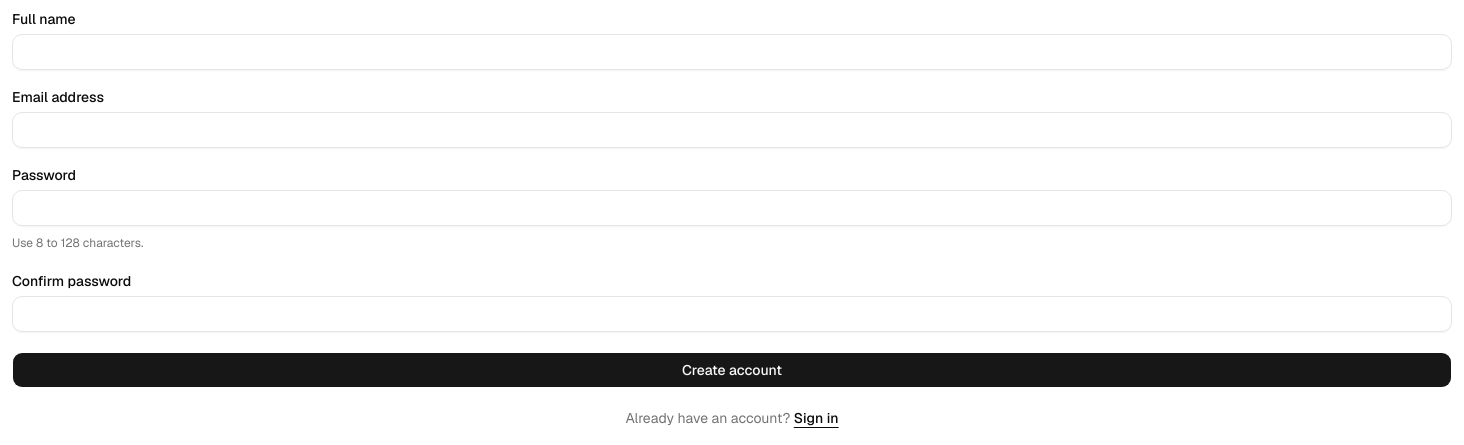
Test: sign-up UI › submits only approved fields and treats the generic response as verification-required
The width and height of the screenshot is (1464, 445).
Type "  Ada Lovelace  " into the field labelled "Full name" at (732, 52), box 12,34 -> 1452,70
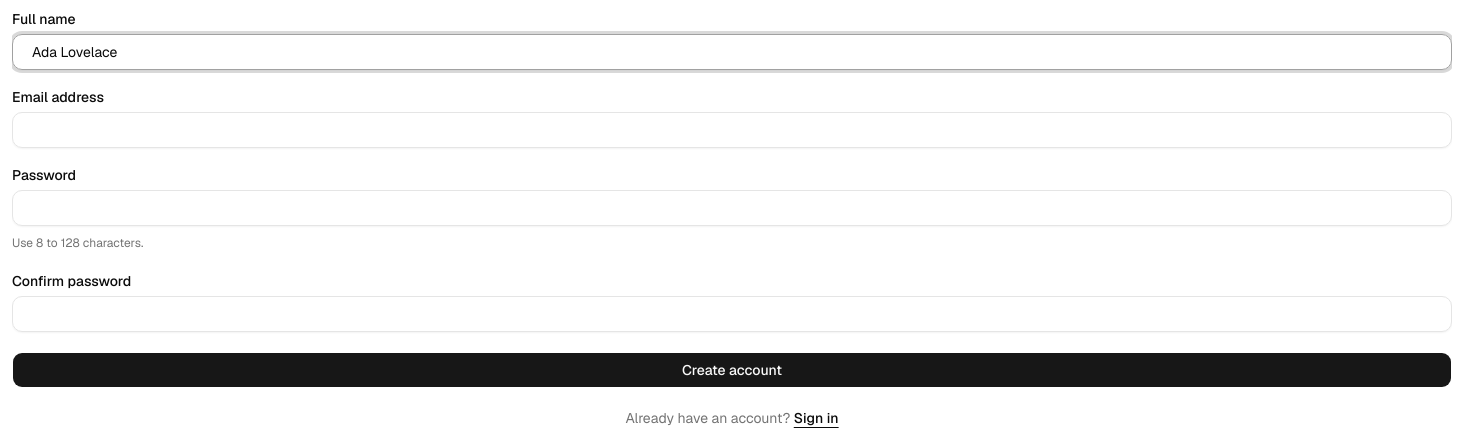
Type "  ADA@Example.com  " into the field labelled "Email address" at (732, 130), box 12,112 -> 1452,148
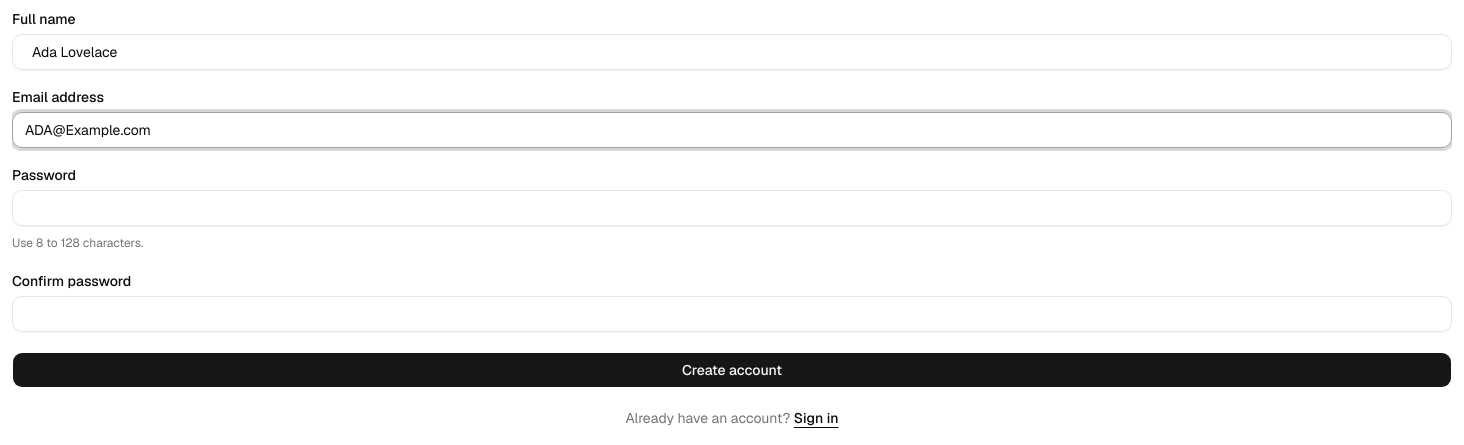
Type "correct-horse-42" into the password field labelled "Password" at (732, 208), box 12,190 -> 1452,226
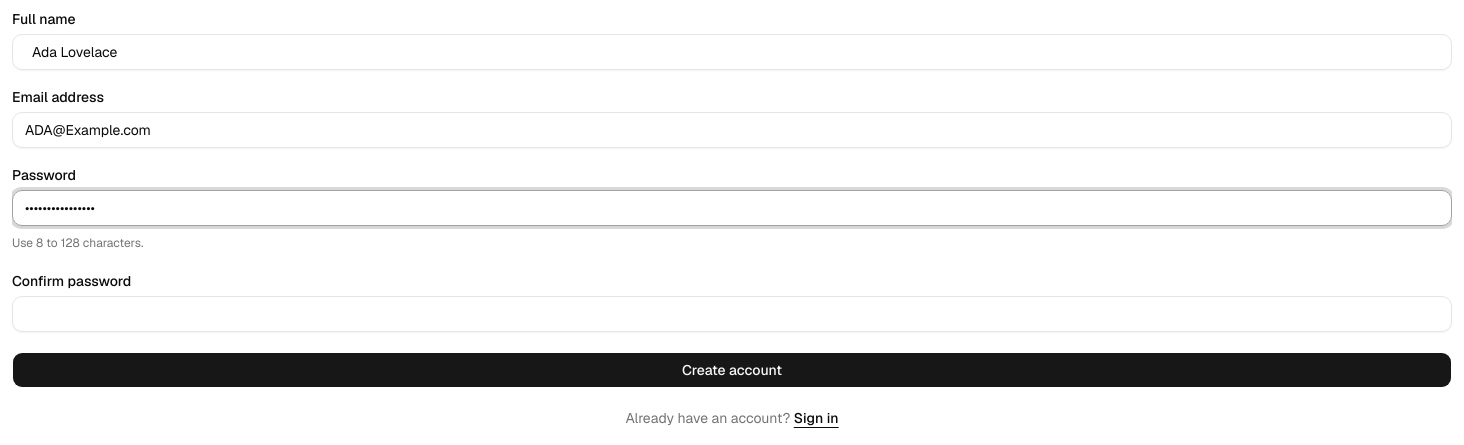
Type "correct-horse-42" into the password field labelled "Confirm password" at (732, 314), box 12,296 -> 1452,332
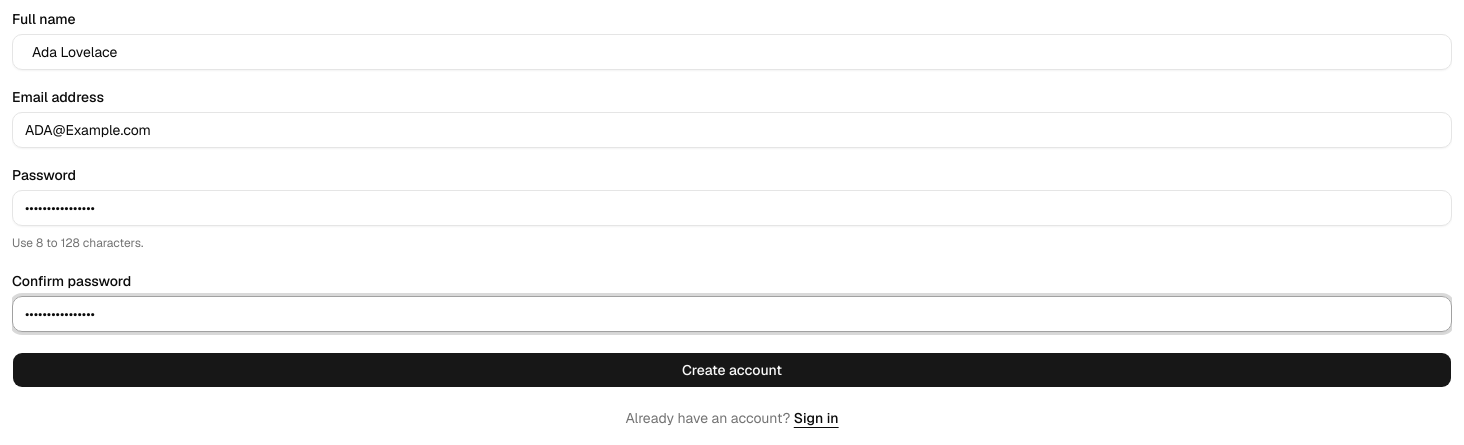
Click the button "Create account" at (732, 370), box 12,352 -> 1452,388
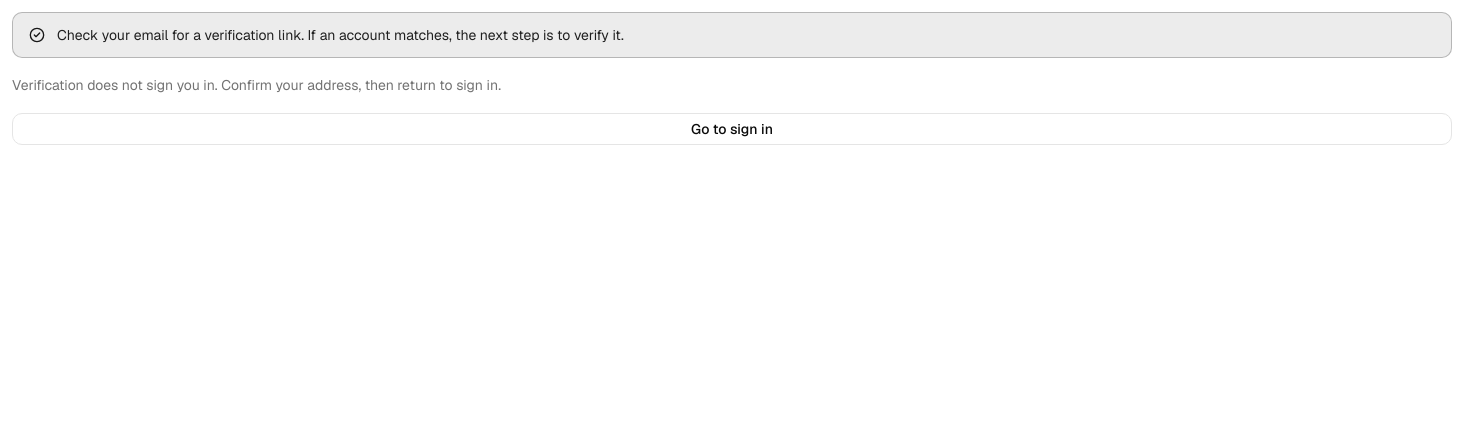
Expected: the text "Check your email for a verification link" is shown, 57,26 -> 624,44
